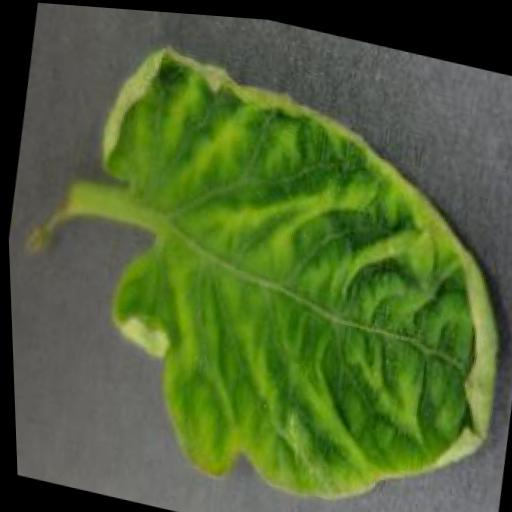Yellow Leaf Curl Virus: (49, 29, 512, 512)
